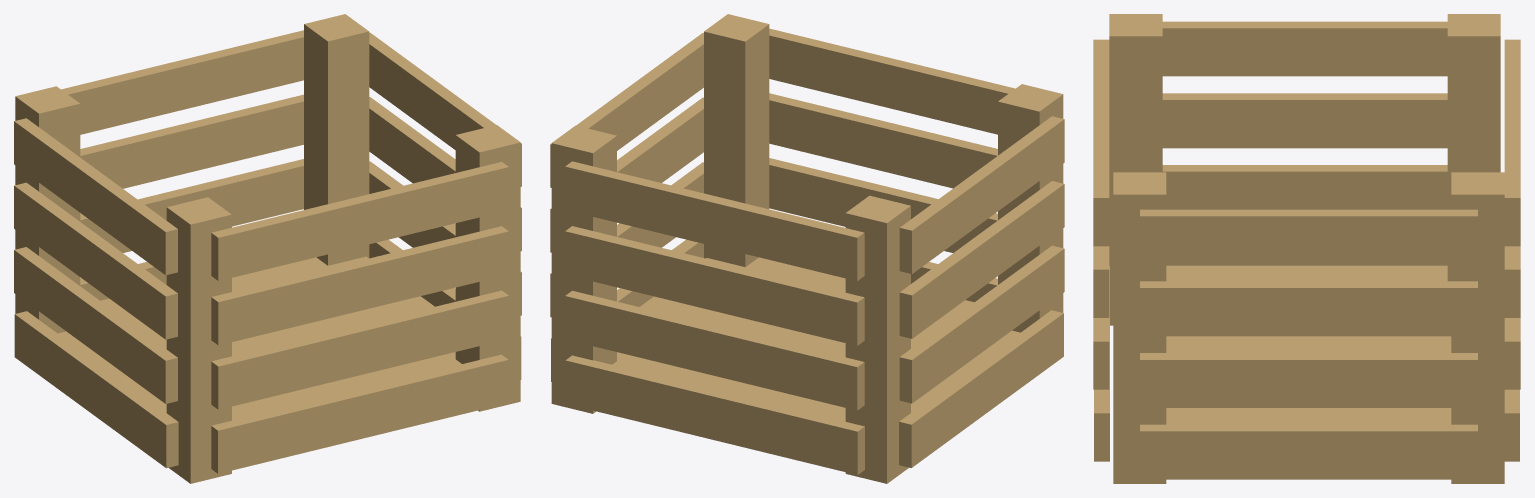
3 views of the same model, side by side, from view 1: azimuth 30°, elevation 25°; view 2: azimuth 150°, elevation 25°; view 3: azimuth 270°, elevation 25° (orthographic). The views are drawn at different scales.
Visible parts, largest first — view 1: Box_2_1; view 2: Box_2_1; view 3: Box_2_1.
Part boxes in pixels (box(x1,y1,x2,y2)): Box_2_1: box(14, 14, 521, 483); Box_2_1: box(550, 14, 1064, 483); Box_2_1: box(1093, 14, 1520, 483).
Bounding box in the file's own units: 34.12 × 23.62 × 31.62.
